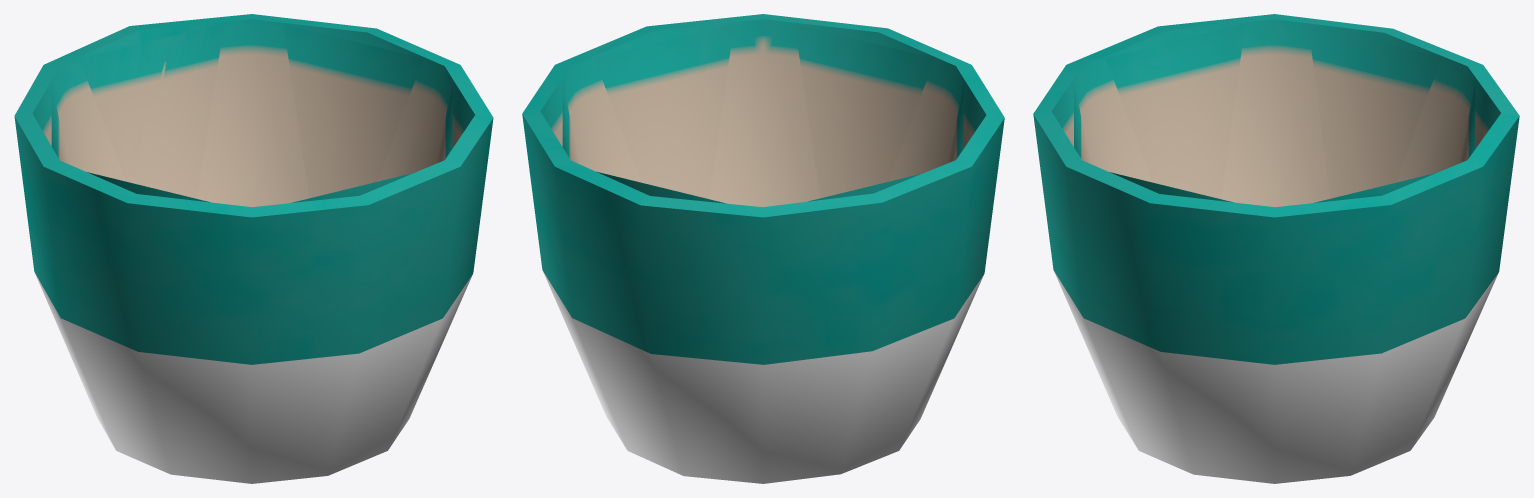
The model's file is objects_un_dlc1_t10bowl01_02.gltf.
The picture shows the model from 3 angles, left to right: view 1: azimuth 30°, elevation 25°; view 2: azimuth 150°, elevation 25°; view 3: azimuth 270°, elevation 25°; orthographic projection.
Visible parts, largest first — view 1: um_objects_un_dlc1_t10bowl01_model_lod0Shape:objects_un_dlc1 (×2), um_objects_un_dlc1_t10bowl01_model_lod1Shape:objects_un_dlc1; view 2: um_objects_un_dlc1_t10bowl01_model_lod0Shape:objects_un_dlc1 (×2), um_objects_un_dlc1_t10bowl01_model_lod1Shape:objects_un_dlc1; view 3: um_objects_un_dlc1_t10bowl01_model_lod0Shape:objects_un_dlc1 (×2), um_objects_un_dlc1_t10bowl01_model_lod1Shape:objects_un_dlc1.
Boxes of the visible parts, x1=… form: um_objects_un_dlc1_t10bowl01_model_lod0Shape:objects_un_dlc1 (×2): x1=14, y1=14, x2=493, y2=483; um_objects_un_dlc1_t10bowl01_model_lod1Shape:objects_un_dlc1: x1=51, y1=23, x2=452, y2=202; um_objects_un_dlc1_t10bowl01_model_lod0Shape:objects_un_dlc1 (×2): x1=522, y1=14, x2=1004, y2=483; um_objects_un_dlc1_t10bowl01_model_lod1Shape:objects_un_dlc1: x1=562, y1=24, x2=963, y2=203; um_objects_un_dlc1_t10bowl01_model_lod0Shape:objects_un_dlc1 (×2): x1=1033, y1=14, x2=1519, y2=483; um_objects_un_dlc1_t10bowl01_model_lod1Shape:objects_un_dlc1: x1=1074, y1=24, x2=1475, y2=202.
Size of what is drawn, in the model's own units: 0.3246 by 0.2266 by 0.3279.
2 materials, 1 textured.
